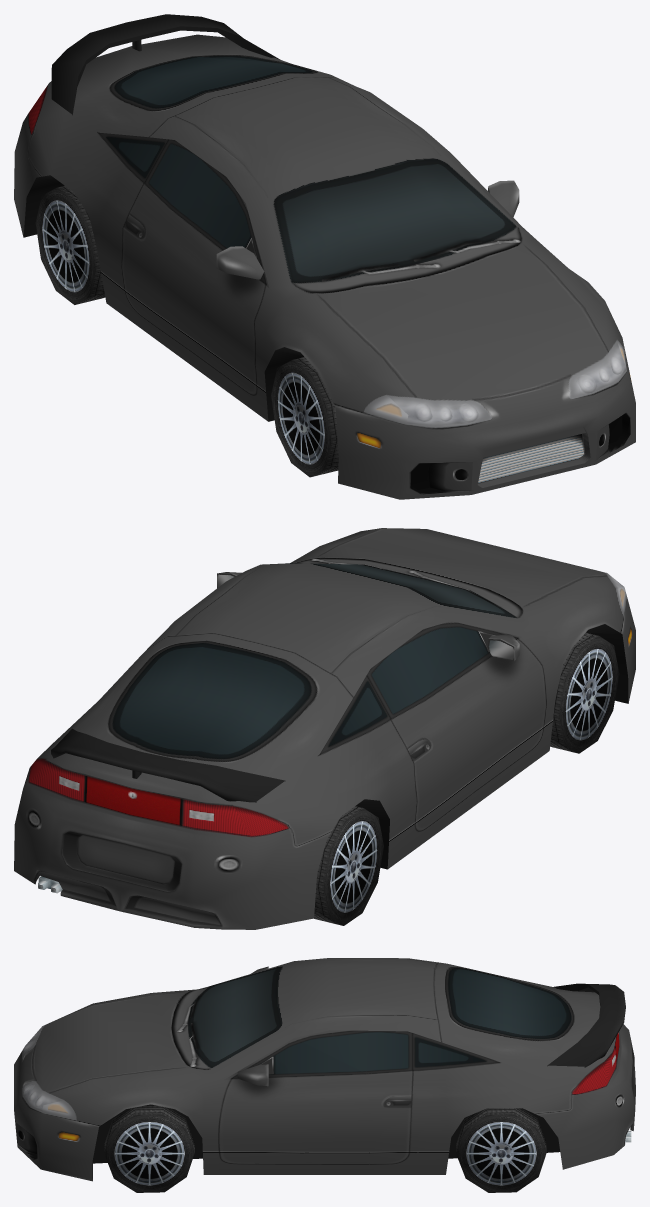
The model's file is ModernStreetVehicle_LOD1.fbx.
The picture shows the model from 3 angles, top to bottom: view 1: azimuth 30°, elevation 25°; view 2: azimuth 150°, elevation 25°; view 3: azimuth 270°, elevation 25°; orthographic projection. The views are drawn at different scales.
Visible parts, largest first — view 1: Chassis, RF_Wheel, RR_Wheel; view 2: Chassis, RR_Wheel, RF_Wheel; view 3: Chassis, LF_Wheel, LR_Wheel.
Boxes of the visible parts, left/top/right/bottom form: Chassis: left=14, top=14, right=635, bottom=499; RF_Wheel: left=271, top=357, right=338, bottom=477; RR_Wheel: left=35, top=185, right=105, bottom=304; Chassis: left=14, top=528, right=635, bottom=929; RR_Wheel: left=314, top=806, right=383, bottom=925; RF_Wheel: left=550, top=632, right=619, bottom=753; Chassis: left=14, top=958, right=635, bottom=1181; LF_Wheel: left=104, top=1104, right=194, bottom=1192; LR_Wheel: left=456, top=1108, right=546, bottom=1192.
Bounding box in the file's own units: 2.08 × 1.41 × 5.02.
Materials: 2 (2 with a texture image).
